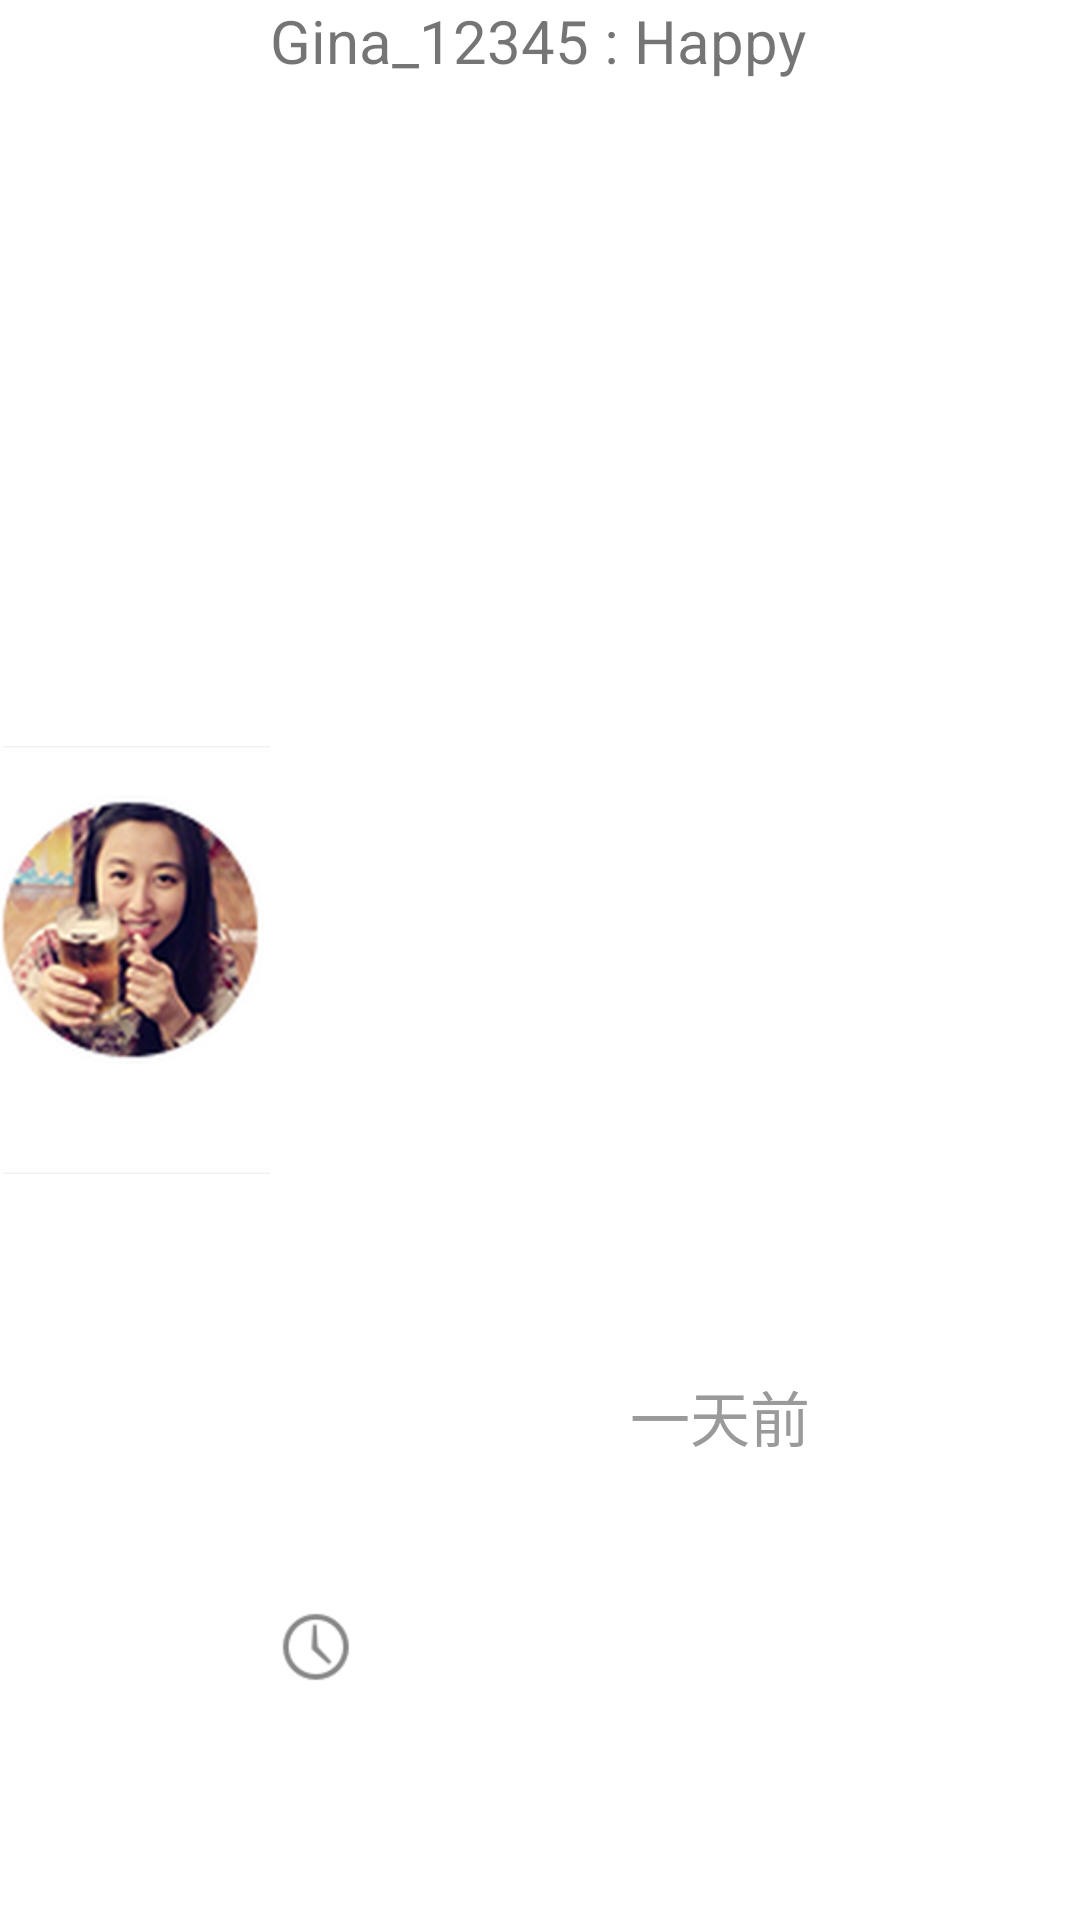

Where icons sit on this 1080×1920 app screen, as (x1, y1, x2, y2):
create time: (283, 1614, 349, 1680)
owner: (2, 801, 259, 1058)
